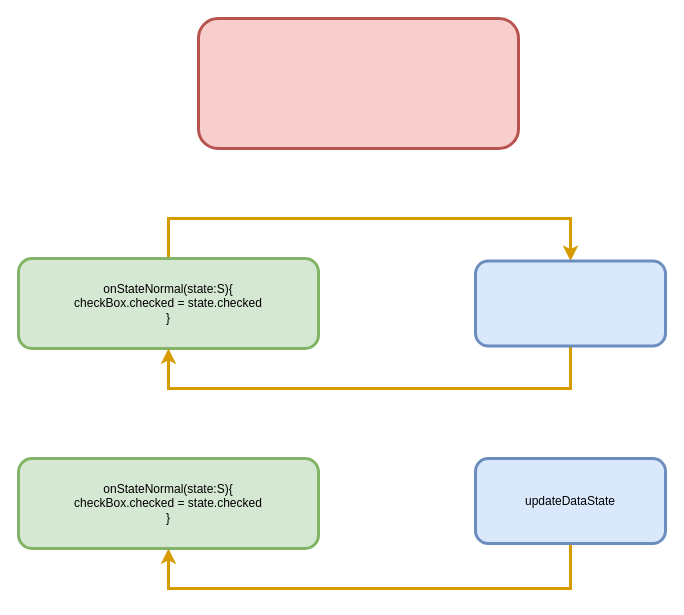
This 684x615 diagram has some shape labels left out. The shapes that lost their labels are listed below. From the top down, each one's box as (x1, y1, x2, y2) in pixels, then its label:
(196, 16, 520, 150): checkBox.setOnCheckedListener{ checked -> viewModel.onActionChecked(checked)}
(474, 259, 666, 347): updateToNormalState
